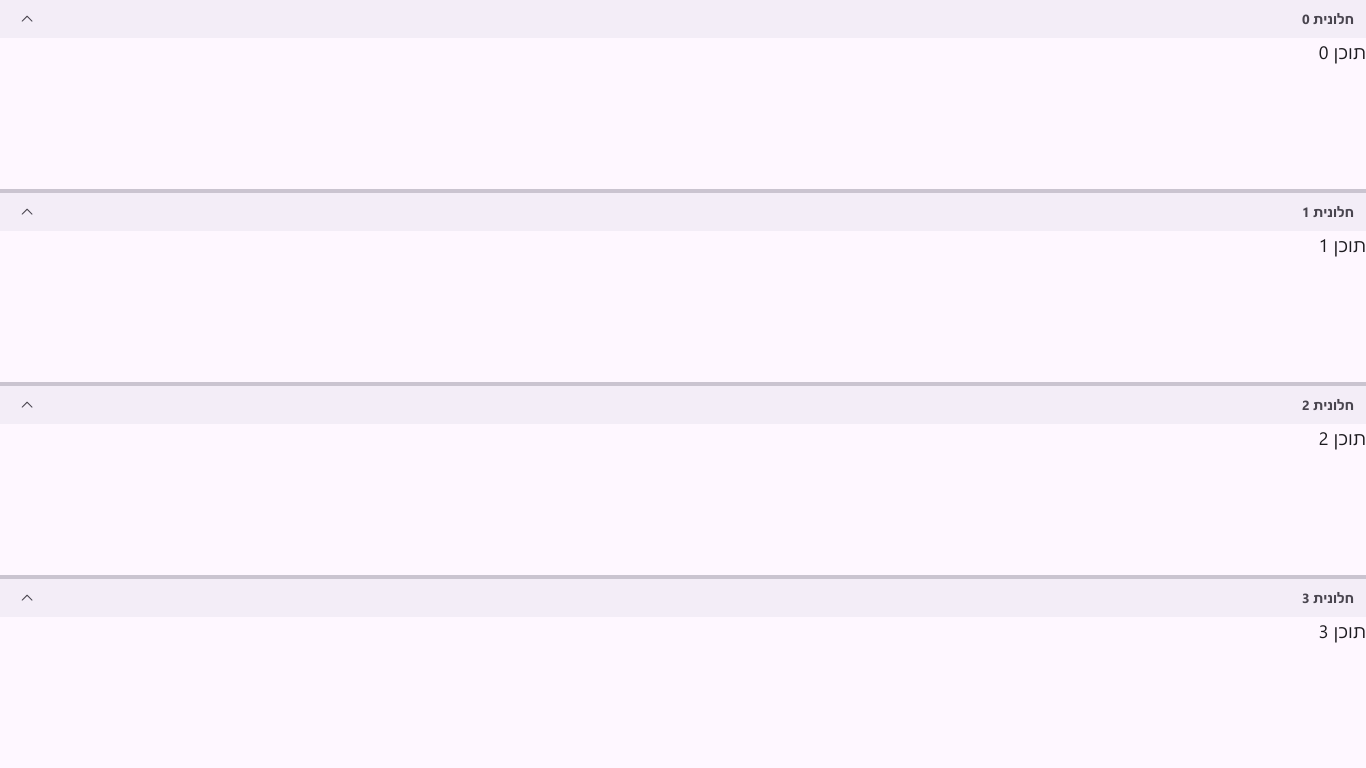
Test: SplitPane — שינוי מספר החלוניות › כיווץ החלונית הרביעית עובד אחרי שמספר החלוניות עלה מ-3 ל-4
Click the button titled "כווץ" in the row of "חלונית 3".
click(27, 598)  # box x1=12 y1=587 x2=42 y2=609
(page scrolled)
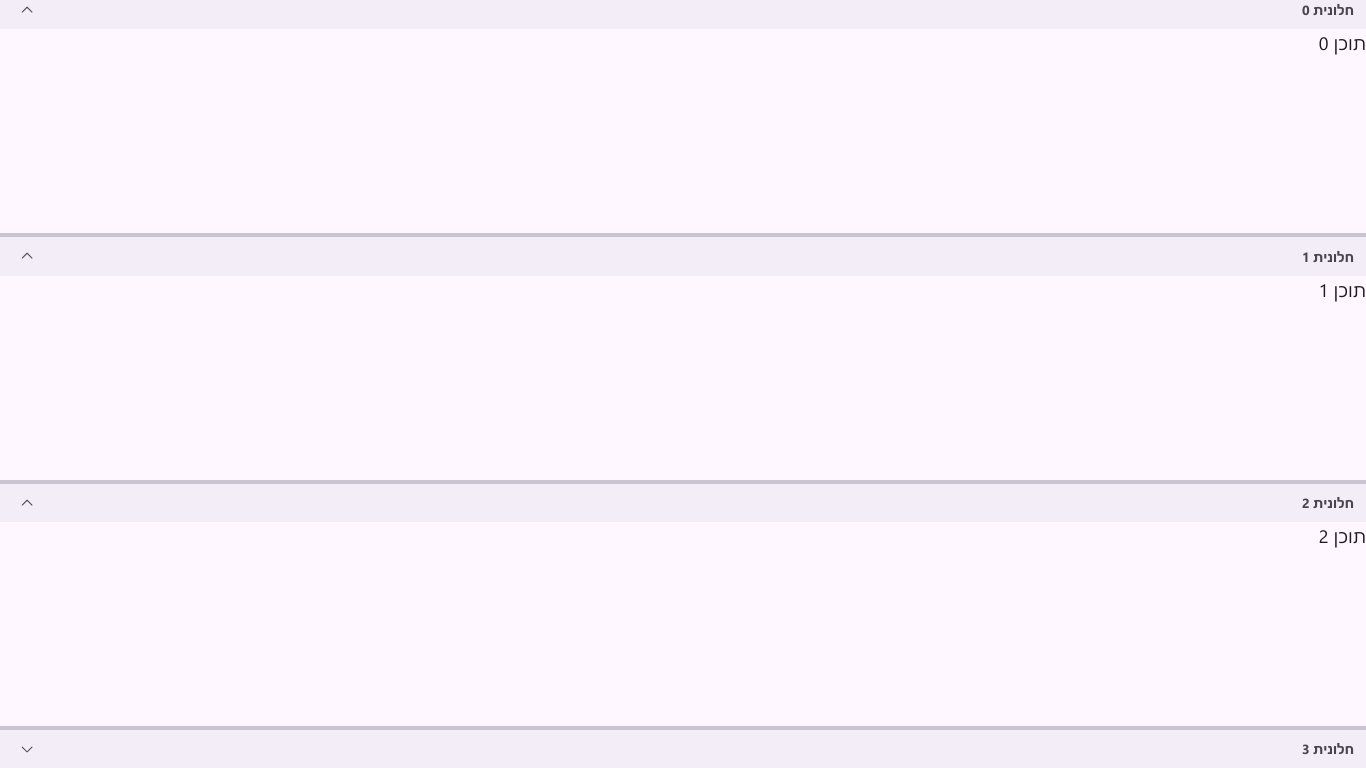
expect the text "תוכן 0" is shown: met, box x1=1319 y1=31 x2=1365 y2=55
expect the text "תוכן 3" is gone: met
Click the button titled "הרחב".
click(27, 749)  # box x1=12 y1=738 x2=42 y2=760
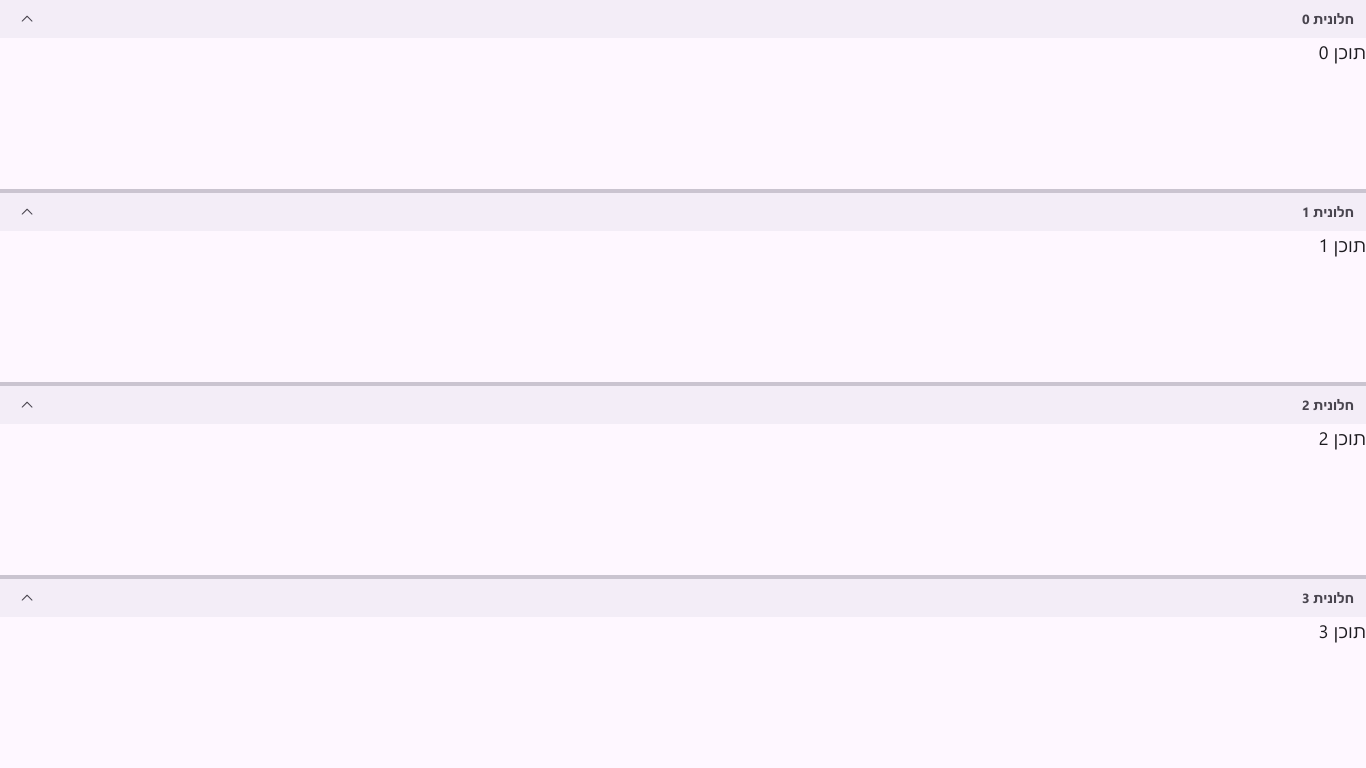
expect the text "תוכן 3" is shown: met, box x1=1319 y1=619 x2=1365 y2=643
